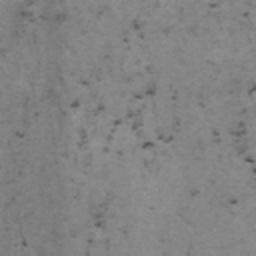Oxide scale of temperature system: (68, 19, 180, 154), (211, 83, 256, 206), (207, 0, 252, 19), (18, 9, 67, 24), (86, 211, 104, 243), (13, 128, 24, 138), (189, 188, 200, 198), (19, 236, 28, 247)
